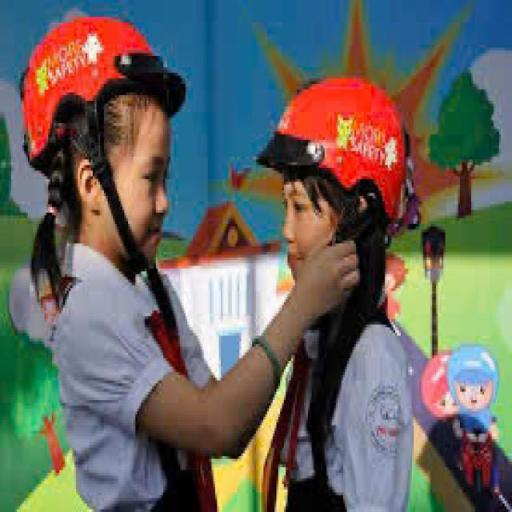with helmet: (17, 10, 191, 165), (254, 69, 408, 223)
